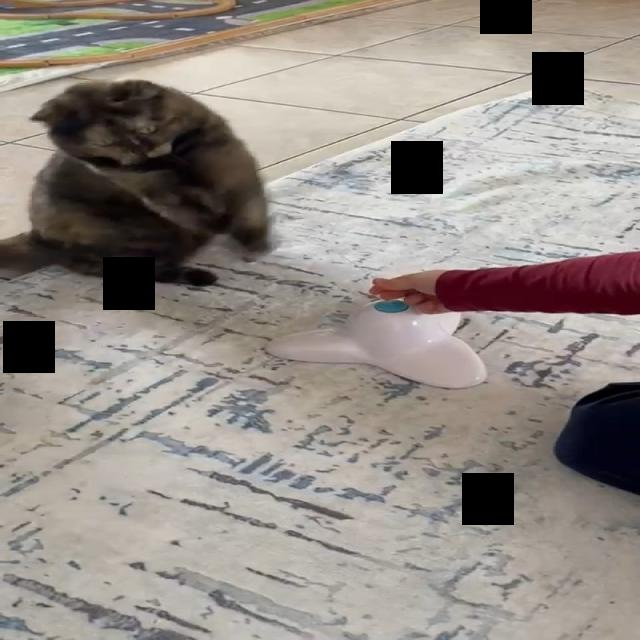authorized: (0, 78, 269, 286)
